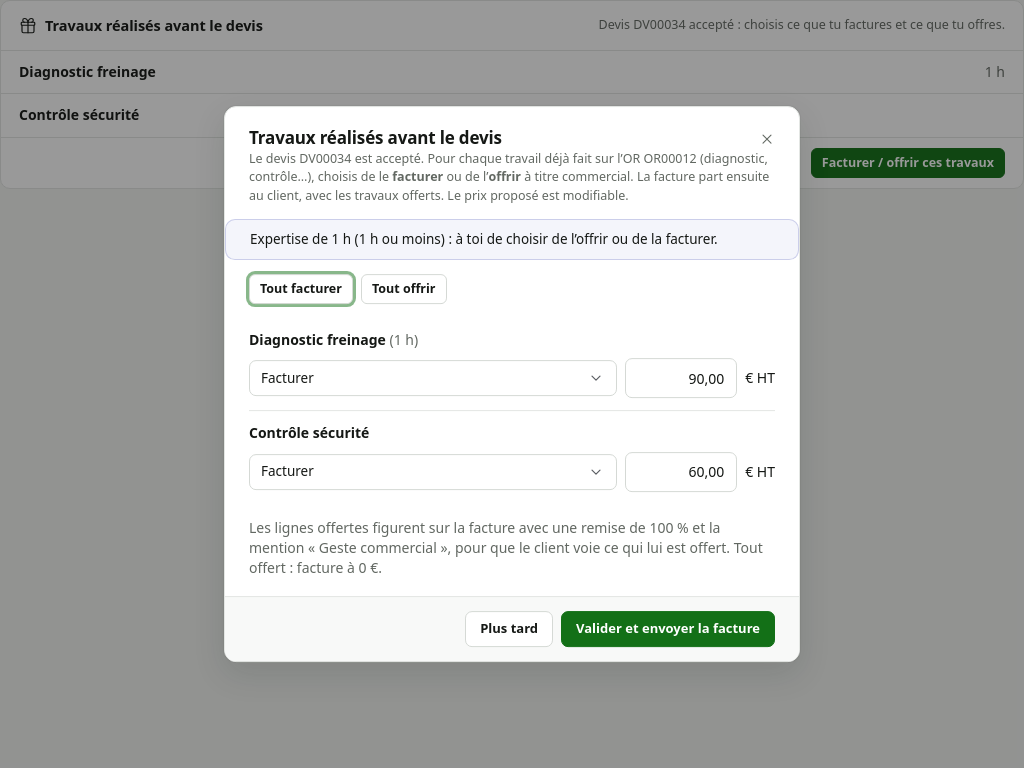
travaux réalisés avant le devis › « Tout offrir » puis « Tout facturer » ; prix obligatoire pour facturer
Click the button "Tout offrir" at (404, 289), box [361,274,446,304]
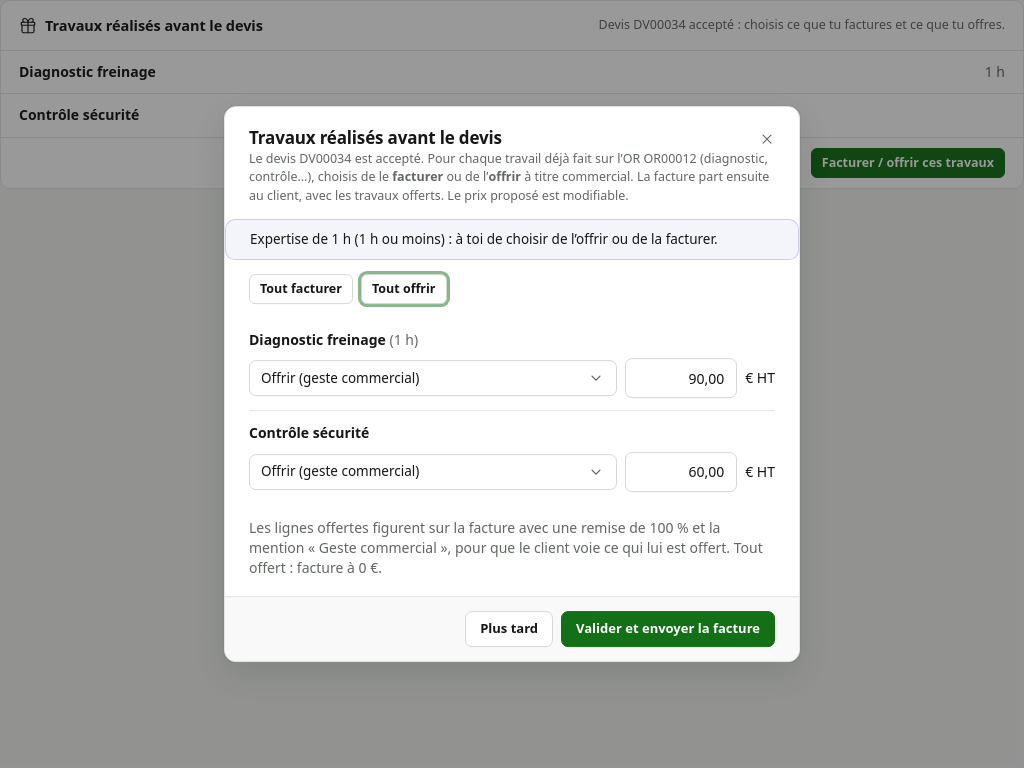
Expected: the dropdown named "Décision pour « Diagnostic freinage »" shows "Offrir (geste commercial)", [249,361,617,397]
Expected: the dropdown named "Décision pour « Contrôle sécurité »" shows "Offrir (geste commercial)", [249,454,617,490]
Click the button "Tout facturer" at (301, 289), box [249,274,353,304]
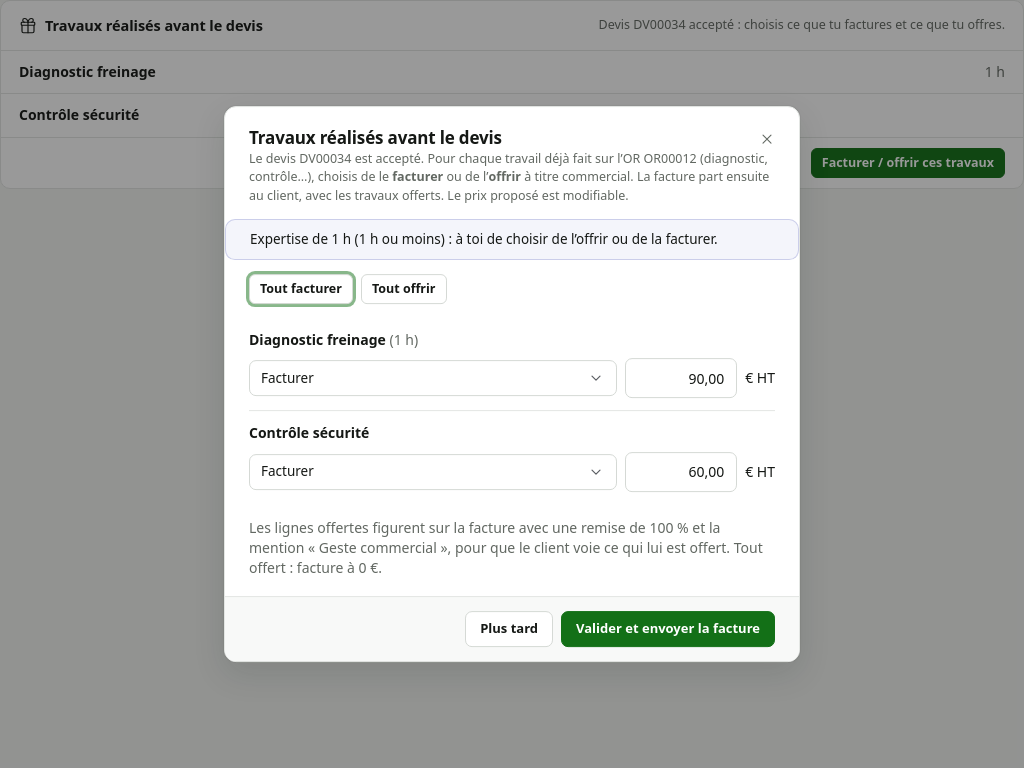
Clear the field named "Prix HT de « Contrôle sécurité »" at (681, 472), box [625,452,737,492]
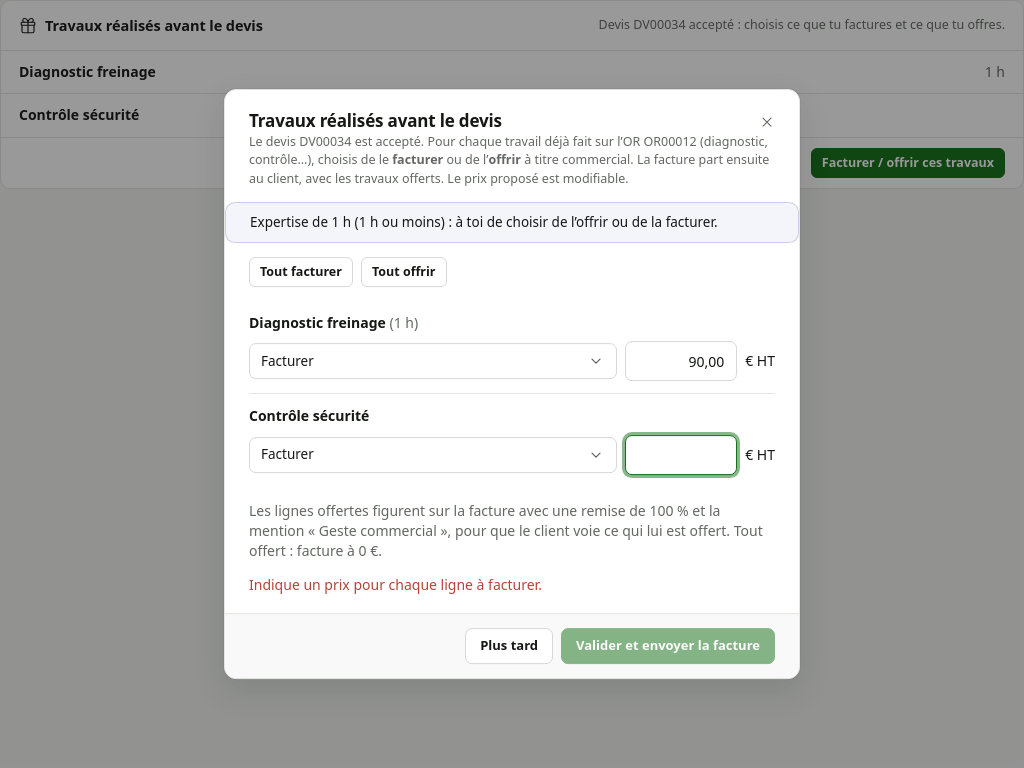
Expected: the text "Indique un prix pour chaque ligne à facturer." is shown, [249,575,542,594]
Expected: the button "Valider et envoyer la facture" is disabled, [561,628,775,664]
